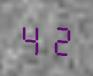four: (19, 19, 45, 55)
two: (46, 20, 72, 56)
